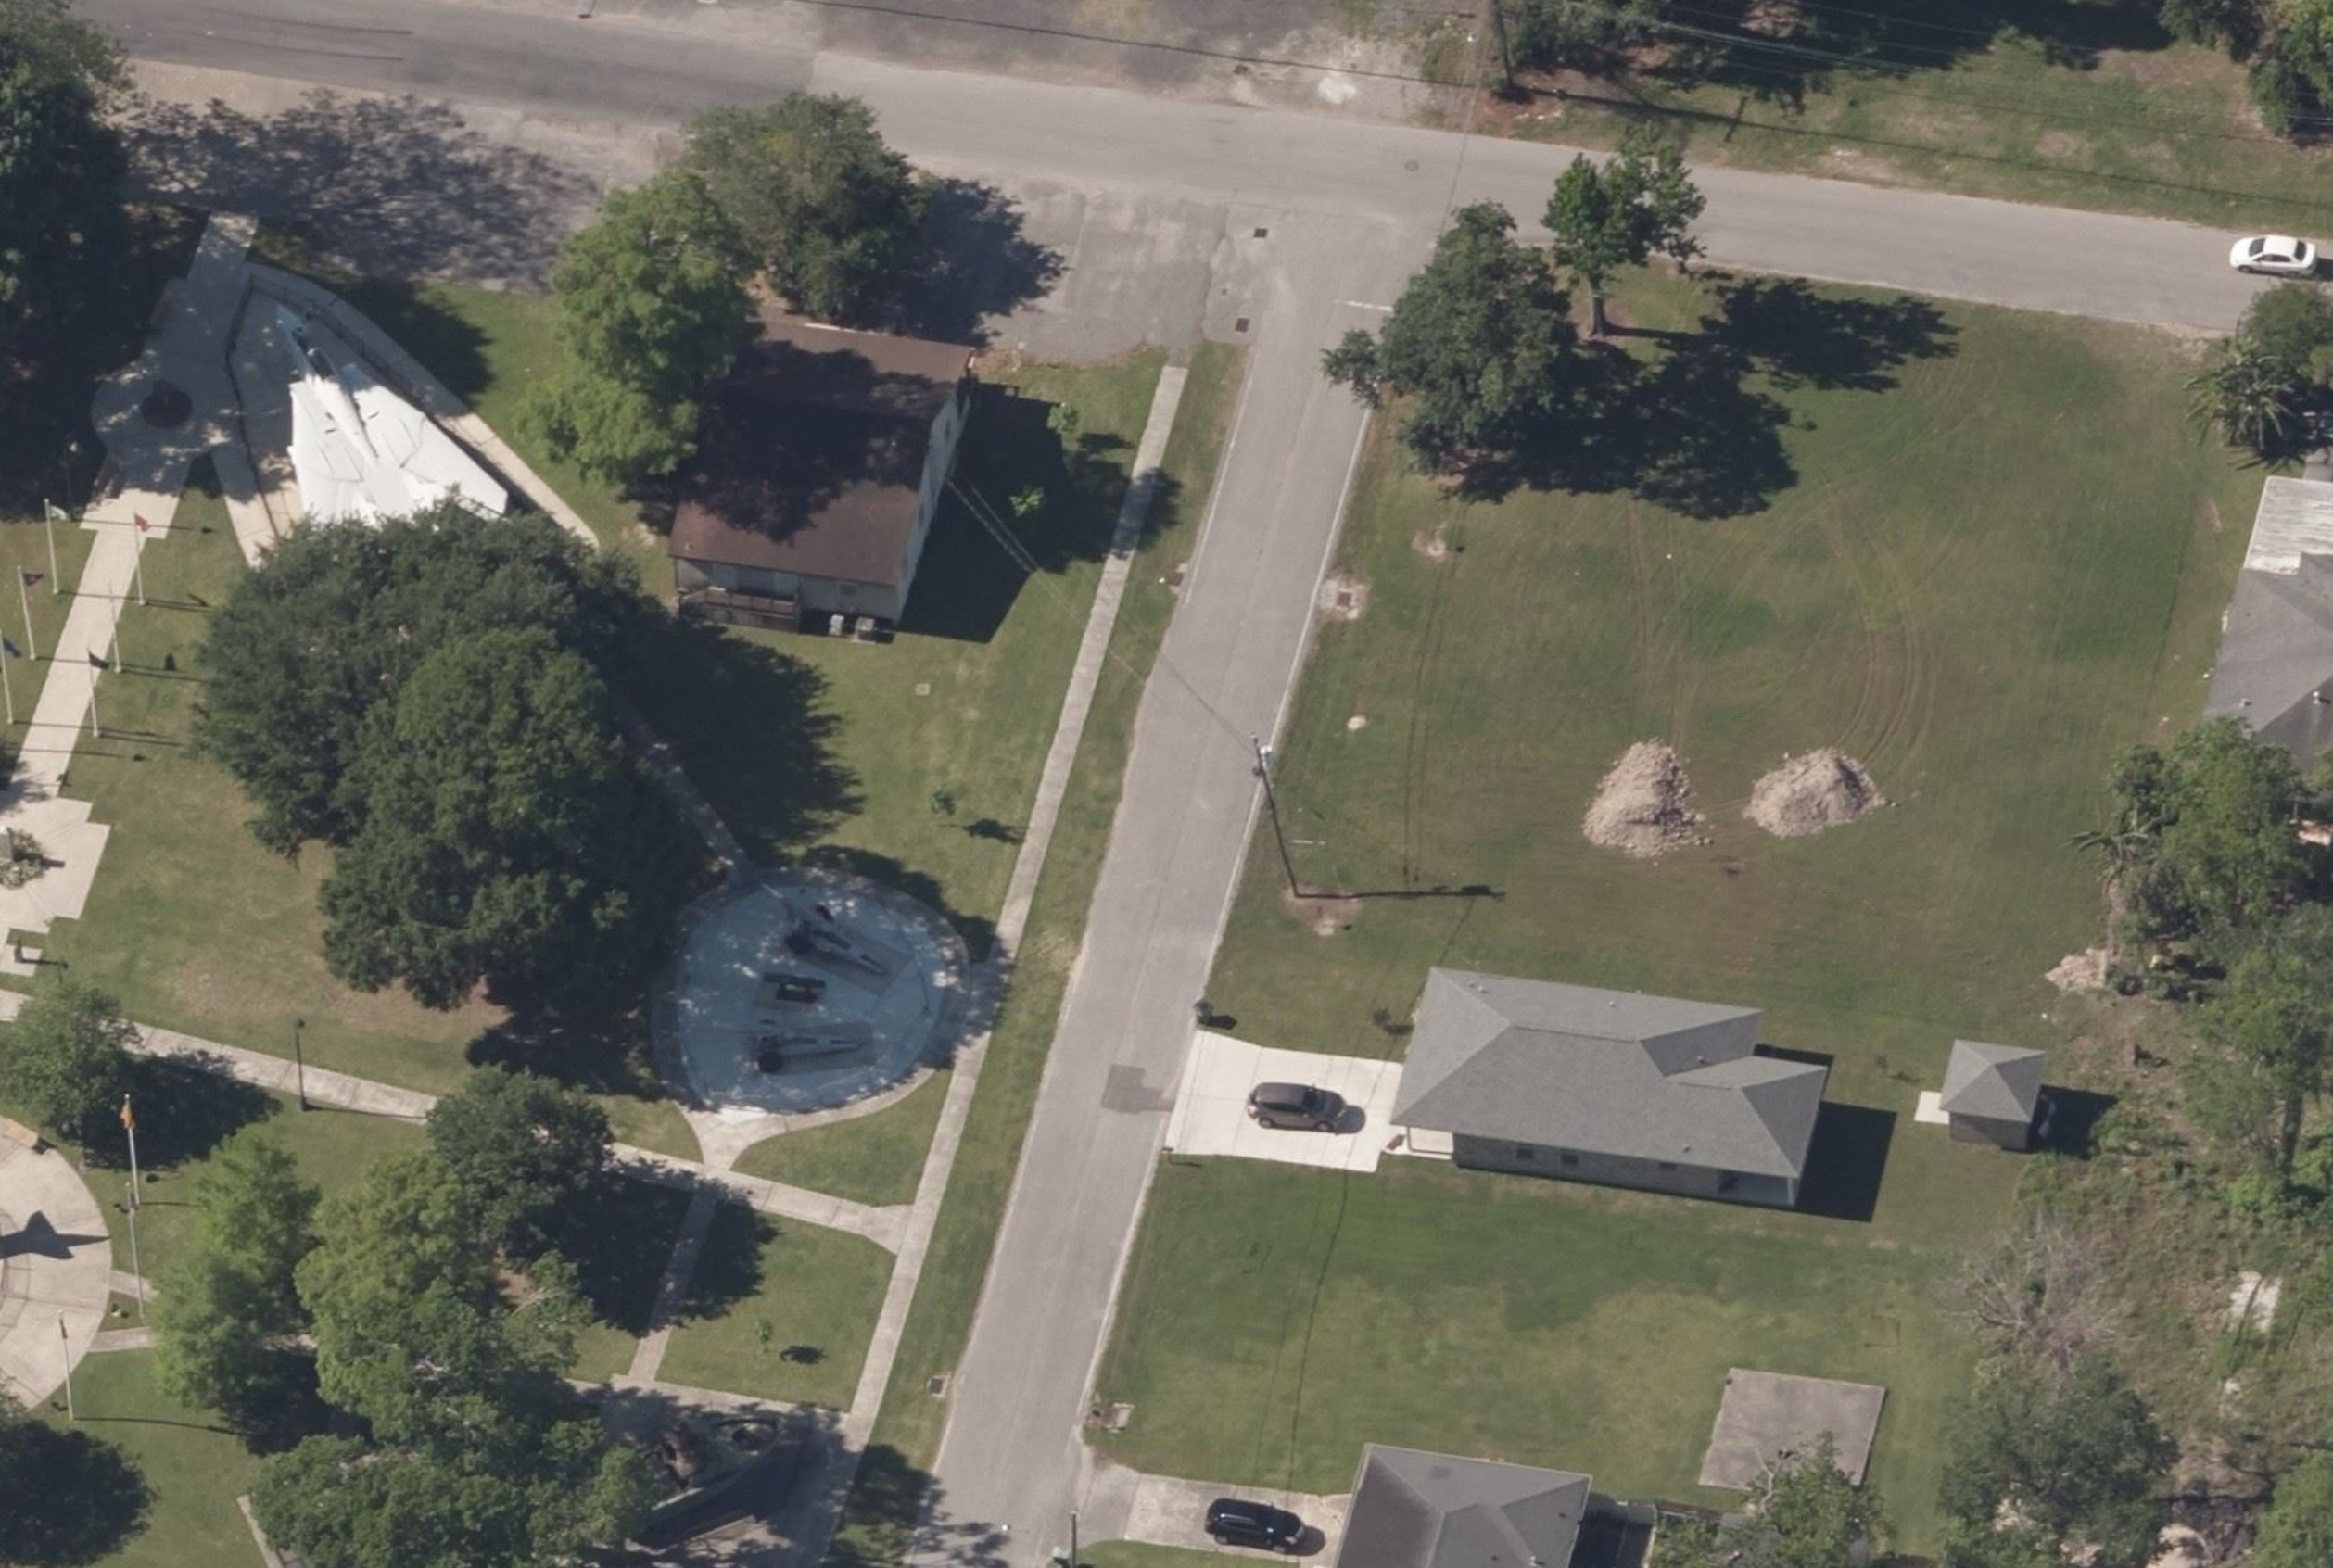F14: (273, 301, 509, 563)
